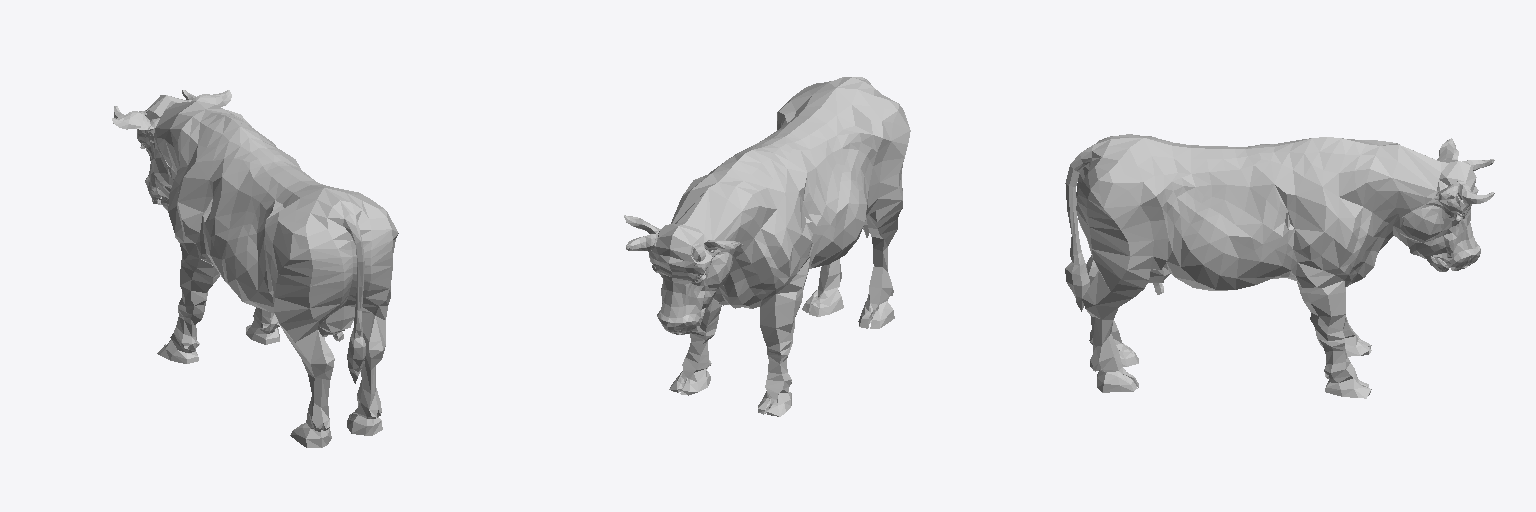
The model's file is frame2.obj.
The picture shows the model from 3 angles: view 1: azimuth 30°, elevation 25°; view 2: azimuth 150°, elevation 25°; view 3: azimuth 270°, elevation 25°; orthographic projection.
Visible parts, largest first — view 1: frame1:Mesh; view 2: frame1:Mesh; view 3: frame1:Mesh.
Boxes of the visible parts, x1,y1,x2,y2 form: frame1:Mesh: [112, 90, 398, 447]; frame1:Mesh: [624, 77, 910, 416]; frame1:Mesh: [1065, 134, 1494, 398].
Size of the model in its own units: 3.07 by 5.93 by 9.68.